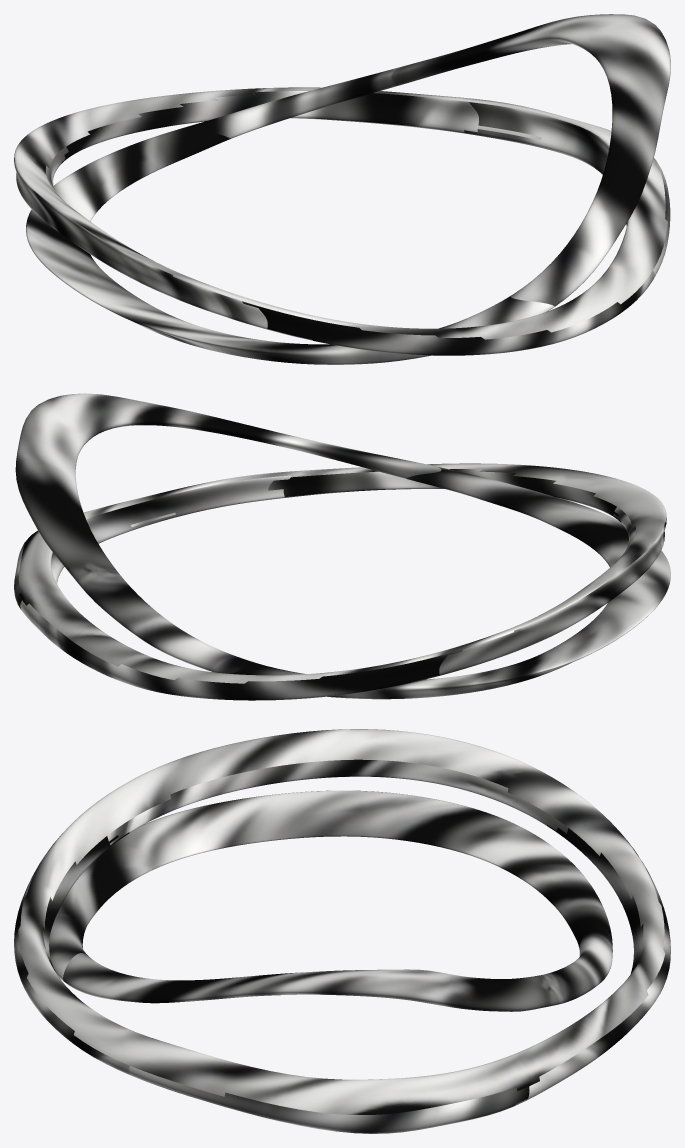
Rendered from Charge.fbx.
The picture shows the model from 3 angles, top to bottom: view 1: azimuth 30°, elevation 25°; view 2: azimuth 150°, elevation 25°; view 3: azimuth 270°, elevation 25°; orthographic projection. The views are drawn at different scales.
Visible parts, largest first — view 1: 2 Event; view 2: 2 Event; view 3: 2 Event.
Part boxes in pixels (x1=…): 2 Event: x1=14, y1=14, x2=670, y2=364; 2 Event: x1=14, y1=393, x2=670, y2=700; 2 Event: x1=14, y1=729, x2=670, y2=1133.
Bounding box in the file's own units: 87.98 × 21.24 × 81.65.
